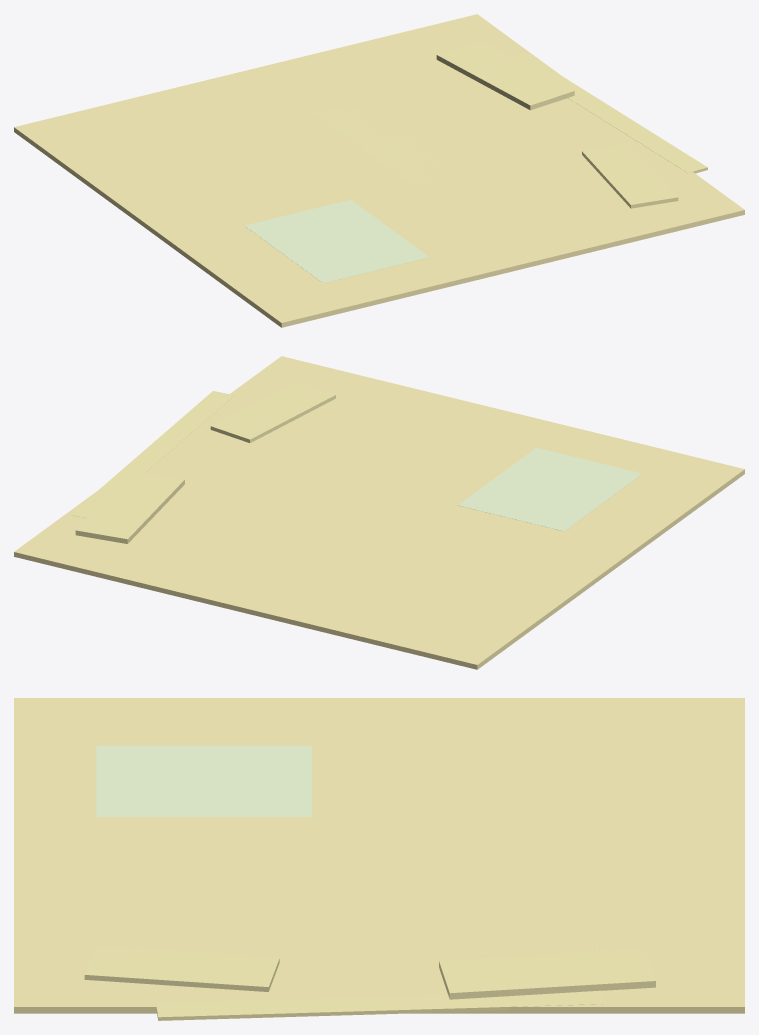
Rendered from road_workzone_staging_pad.glb.
3 renders of one model, top to bottom at view 1: azimuth 30°, elevation 25°; view 2: azimuth 150°, elevation 25°; view 3: azimuth 270°, elevation 25°, orthographic. The views are drawn at different scales.
Parts seen in each view (by area): view 1: base, staging_pad, steel_plate, stockpile_left, stockpile_right, windrow; view 2: base, steel_plate, stockpile_left, stockpile_right, windrow, staging_pad; view 3: base, steel_plate, stockpile_left, windrow, stockpile_right, staging_pad.
Part boxes in pixels (left/top/right/bottom): base: left=14, top=14, right=744, bottom=327; staging_pad: left=289, top=60, right=573, bottom=236; steel_plate: left=244, top=199, right=429, bottom=283; stockpile_left: left=436, top=40, right=574, bottom=110; stockpile_right: left=582, top=143, right=678, bottom=208; windrow: left=512, top=53, right=707, bottom=173; base: left=14, top=356, right=744, bottom=669; steel_plate: left=457, top=447, right=642, bottom=531; stockpile_left: left=75, top=470, right=184, bottom=543; stockpile_right: left=210, top=381, right=335, bottom=442; windrow: left=70, top=391, right=234, bottom=518; staging_pad: left=255, top=404, right=469, bottom=571; base: left=14, top=698, right=744, bottom=1013; steel_plate: left=96, top=745, right=311, bottom=816; stockpile_left: left=439, top=949, right=655, bottom=999; windrow: left=156, top=990, right=602, bottom=1020; stockpile_right: left=84, top=946, right=279, bottom=991; staging_pad: left=113, top=896, right=646, bottom=952.
Bounding box in the file's own units: 4.13 × 0.08 × 4.
